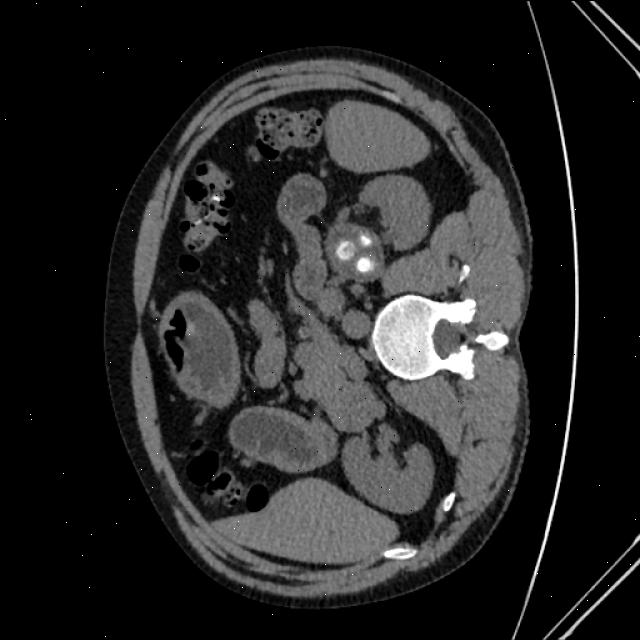kidneystone: (325, 221, 385, 281)
